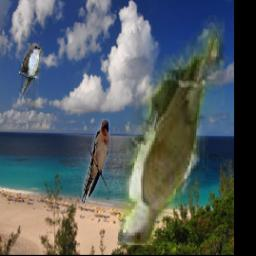Cuckoo: (118, 1, 225, 246), (19, 43, 44, 120)
Swallow: (82, 120, 110, 204)
